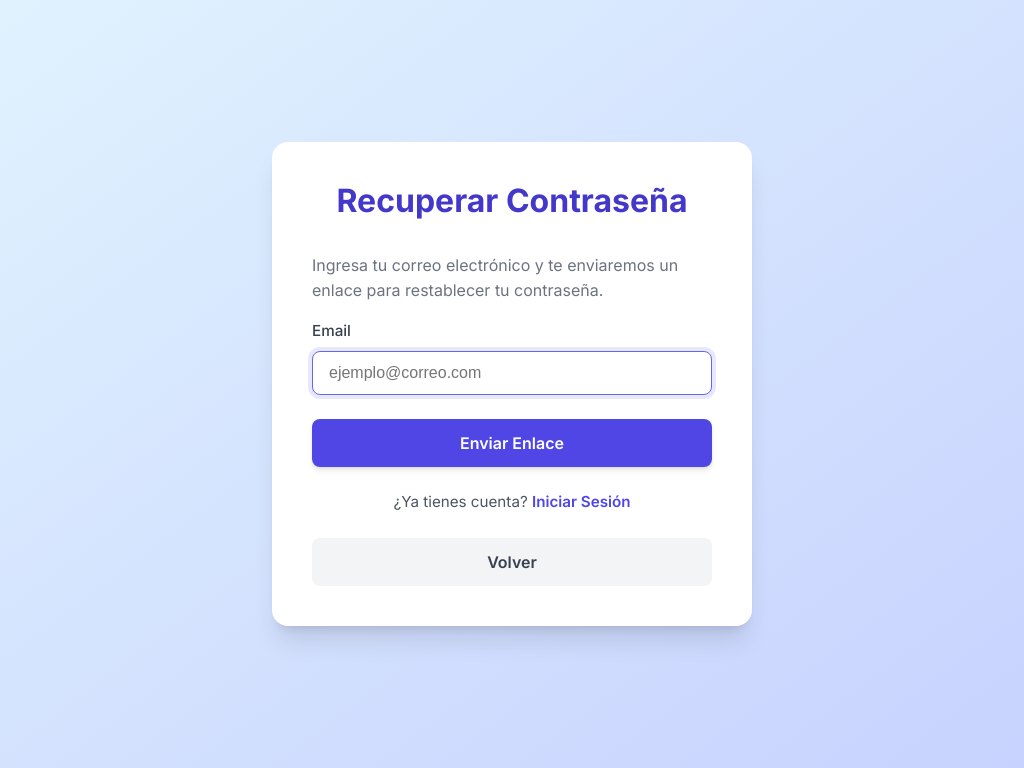
Test: 🔐 Componente ForgotPasswordPage › muestra error si el email no es válido
The width and height of the screenshot is (1024, 768).
In the field labelled "Email": {"x": 512, "y": 373} [312,351,712,395], type "email-invalido"
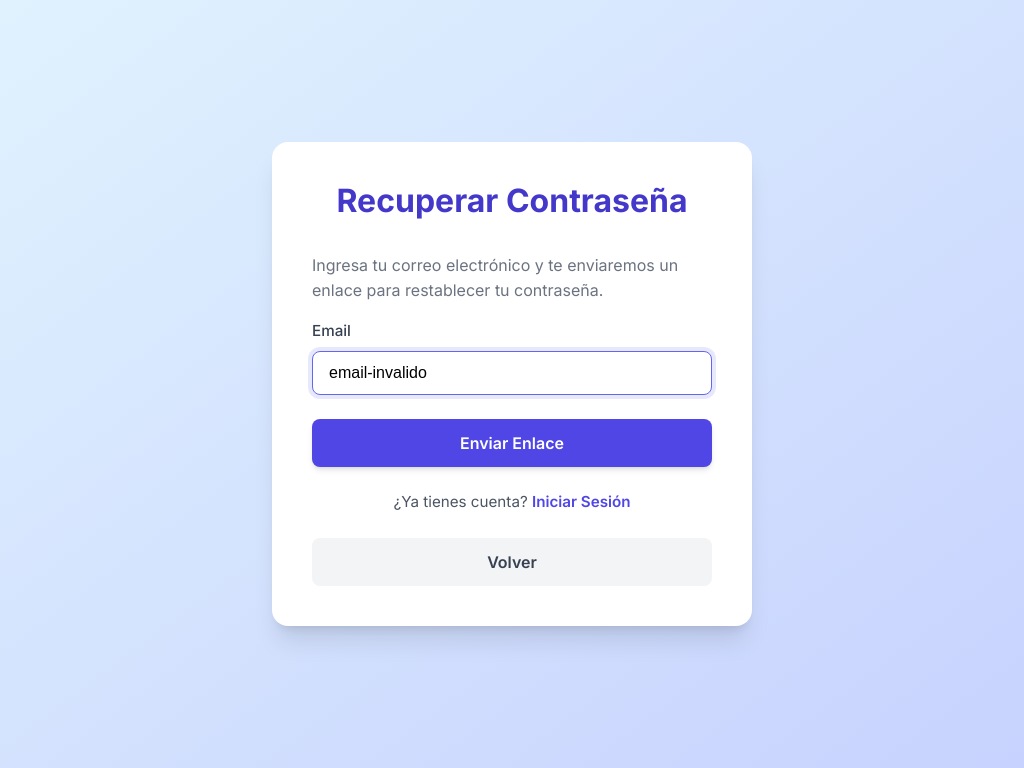
Submit the form "Email Enviar Enlace", box [312,320,712,467]
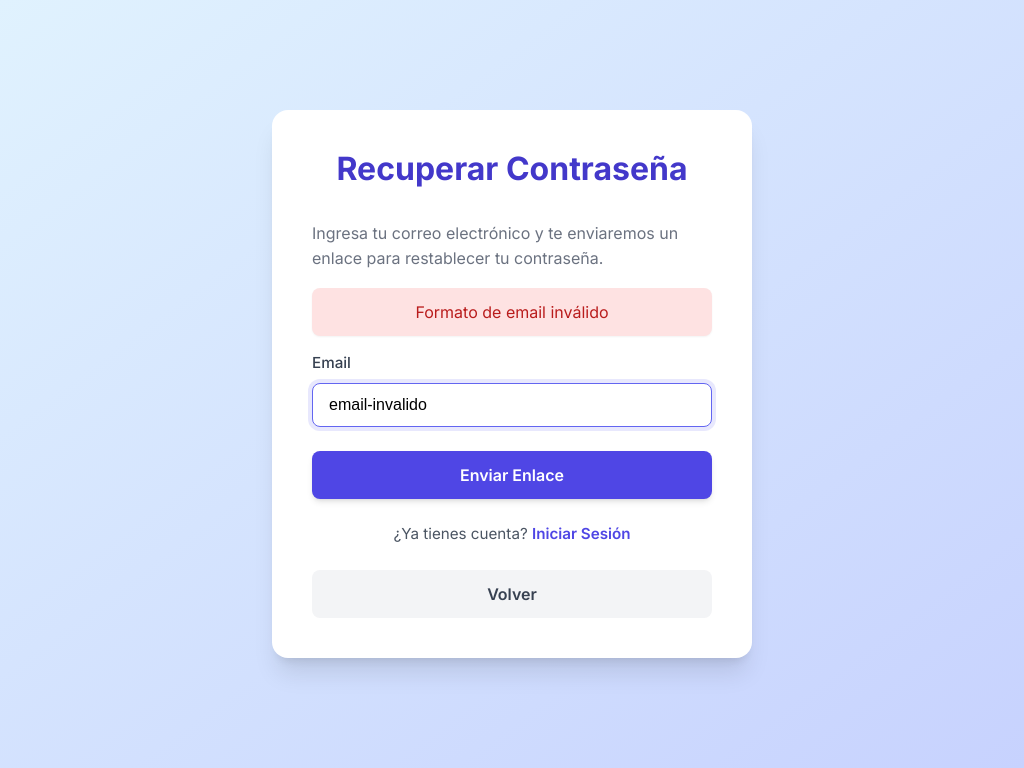
Expected: the text "Formato de email inválido" is shown, [312,288,712,336]
